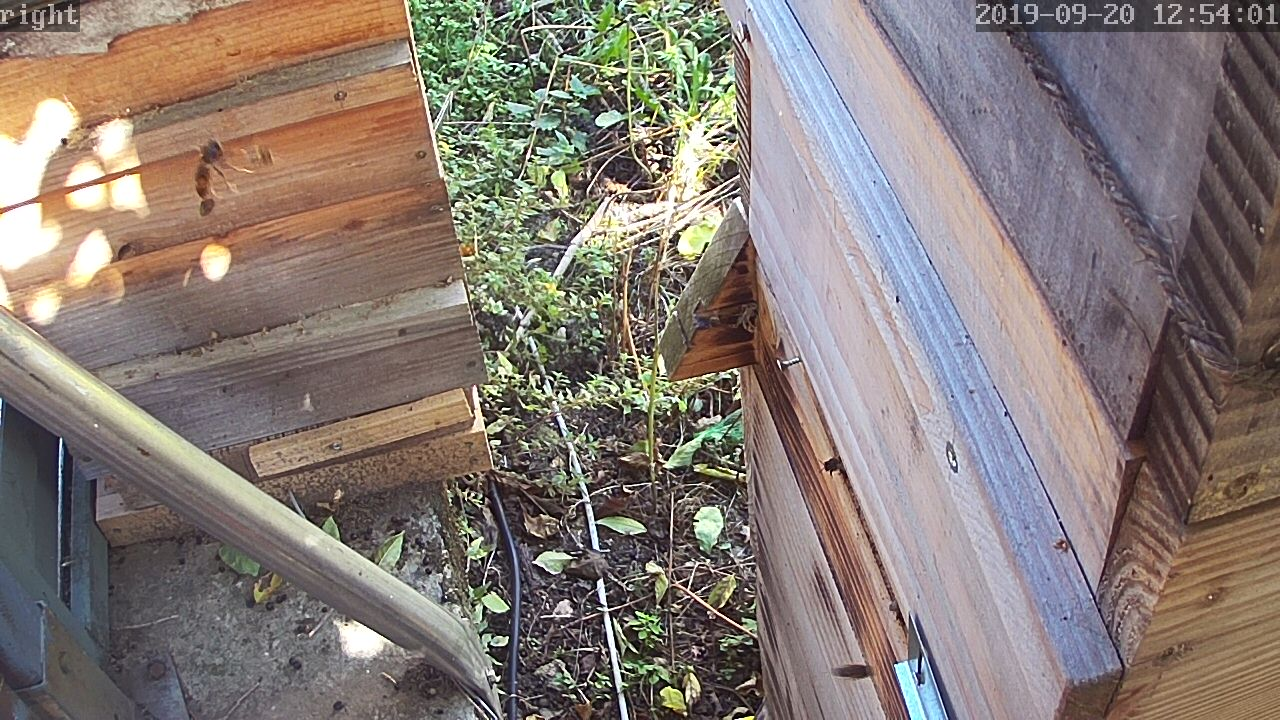bee: (832, 653, 880, 688), (813, 450, 841, 483)
hornet: (193, 144, 232, 206), (198, 141, 242, 192)
